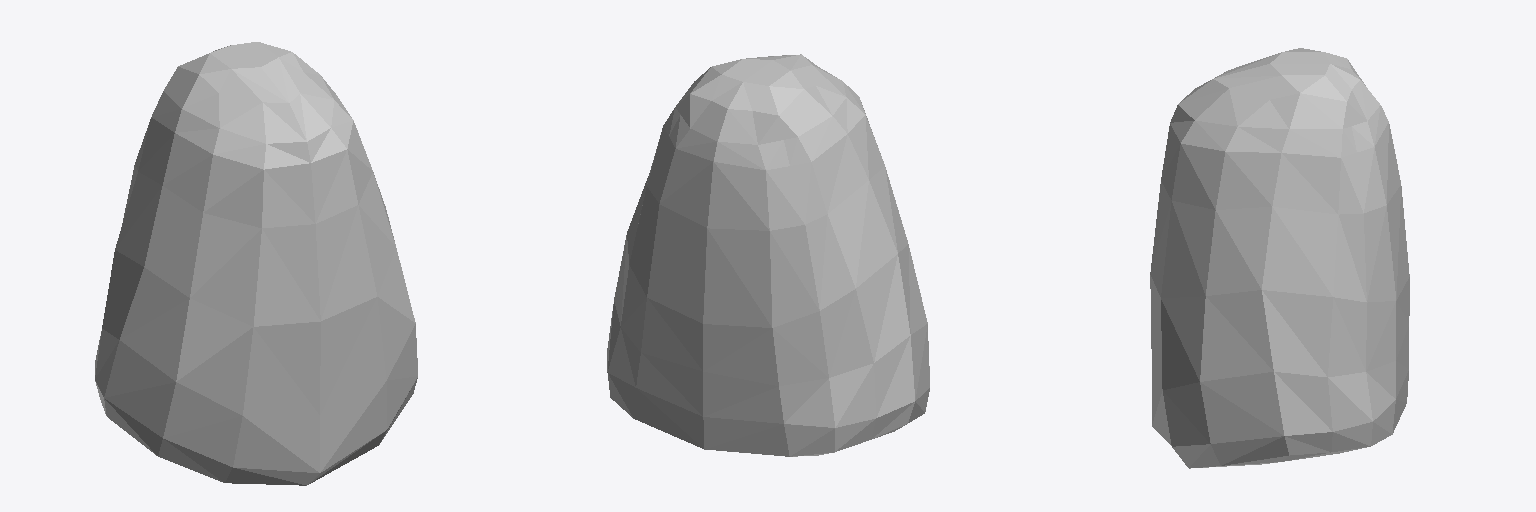
The model's file is police_body.obj.
3 renders of one model, left to right at view 1: azimuth 30°, elevation 25°; view 2: azimuth 150°, elevation 25°; view 3: azimuth 270°, elevation 25°, orthographic.
Visible parts, largest first — view 1: police_body; view 2: police_body; view 3: police_body.
Part boxes in pixels (bbox=[...]): police_body: bbox=[95, 42, 417, 485]; police_body: bbox=[607, 54, 929, 456]; police_body: bbox=[1150, 48, 1409, 468].
Size of the model in its own units: 11.08 by 13.61 by 8.32.